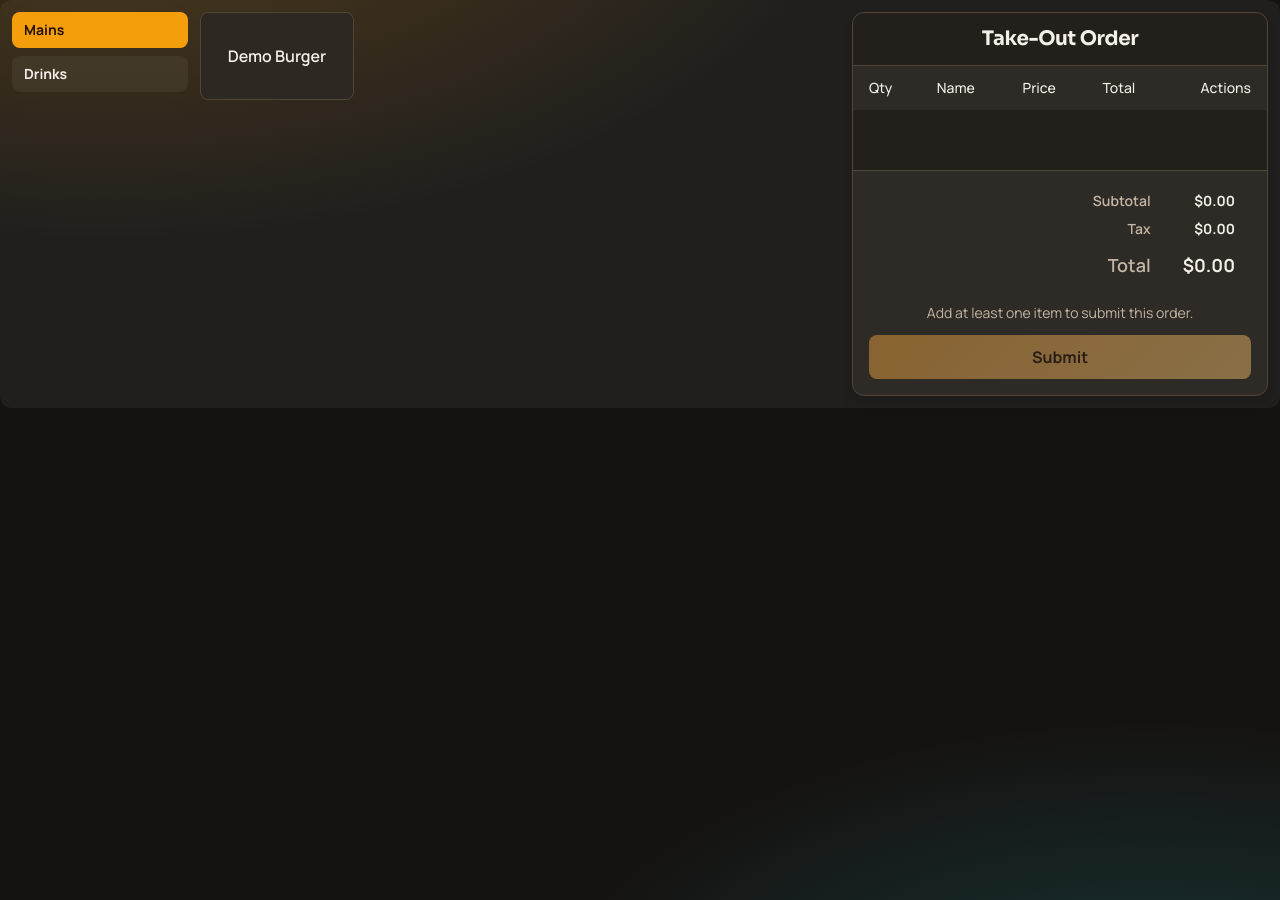
Test: OrderInput › keeps local order state clean when the atomic request fails
The image size is (1280, 900).
Click the button "Demo Burger" at (277, 56), box [200,12,354,100]
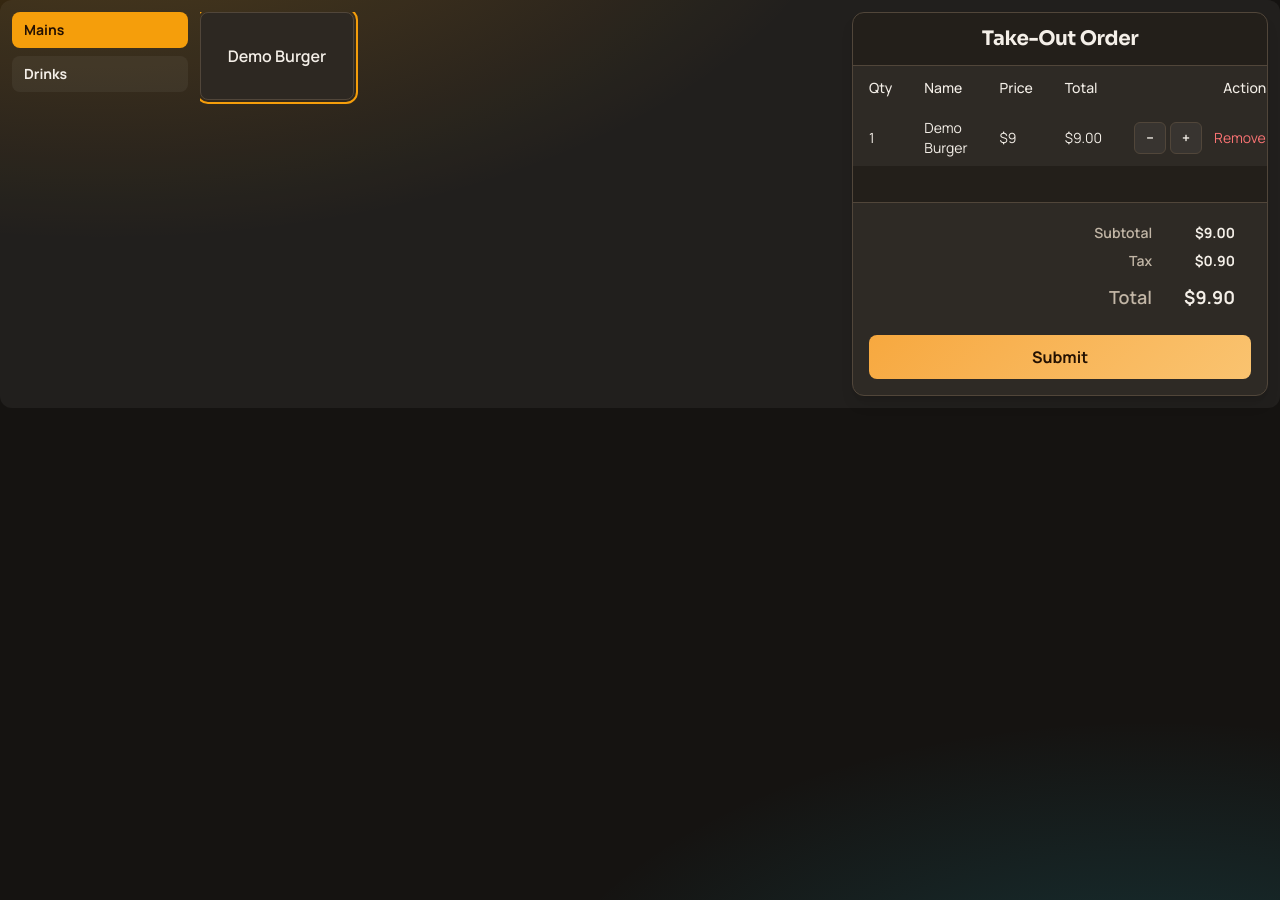
Click the button "Submit" at (1060, 357), box [869,335,1251,379]
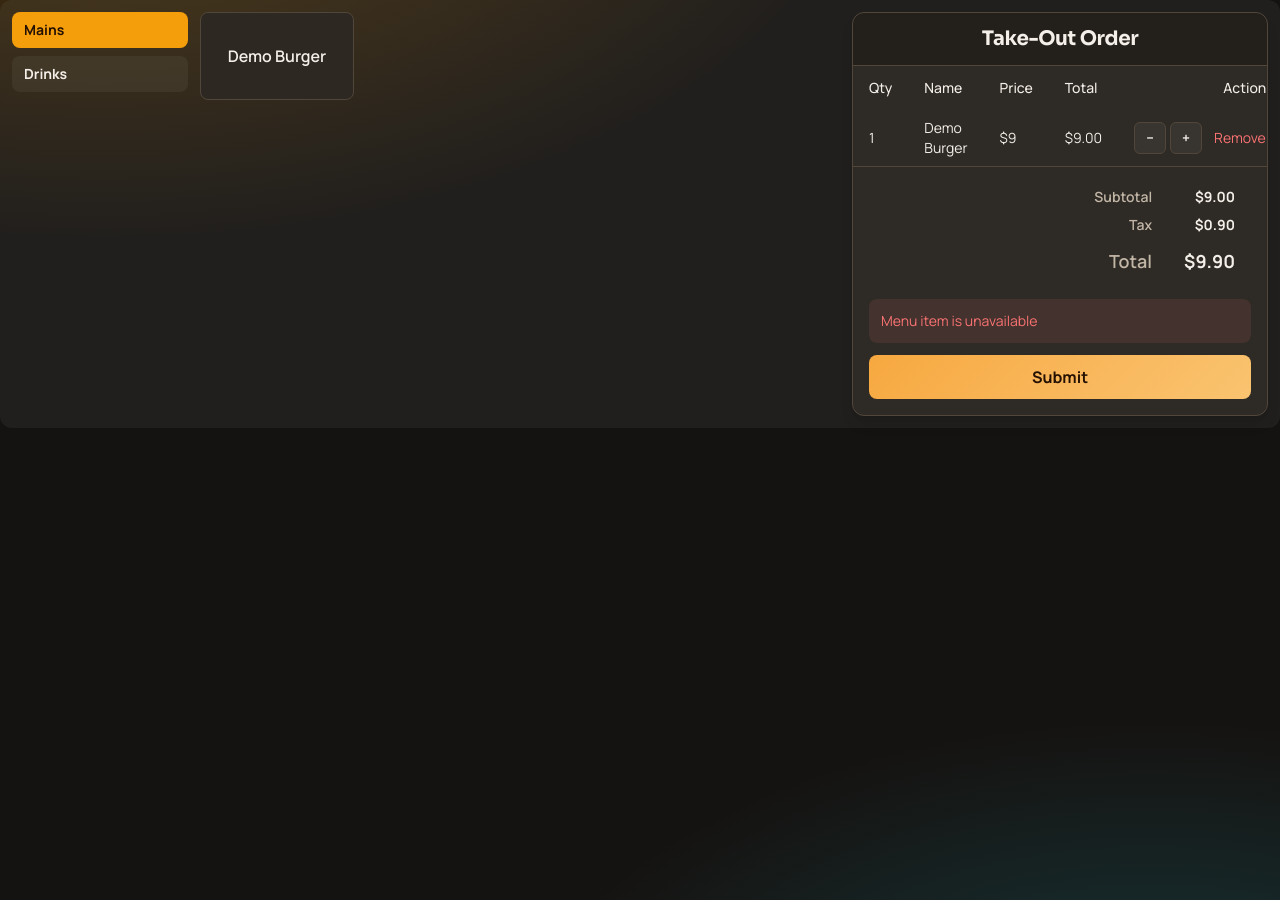
Expected: the message reads "Menu item is unavailable", [881,311,1038,330]
